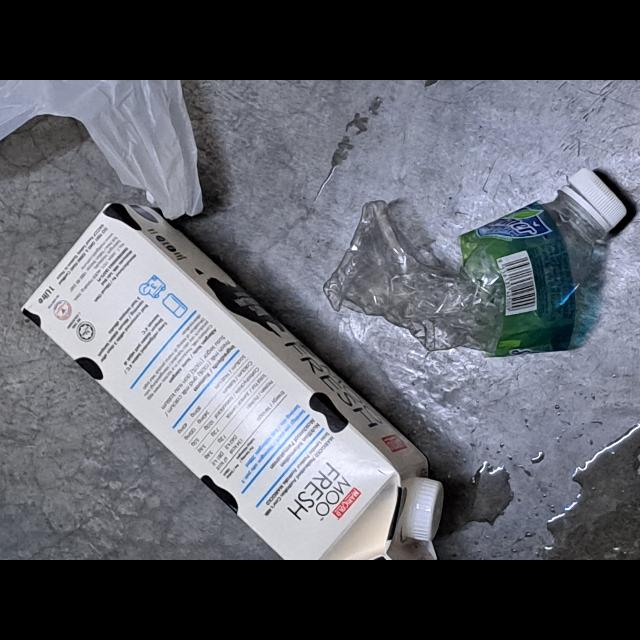caixinha: (23, 204, 444, 560)
garrafa plástica: (323, 195, 607, 357)
sacola plástica: (1, 80, 206, 220)
tampa plástica: (568, 168, 628, 228), (404, 478, 446, 544)
